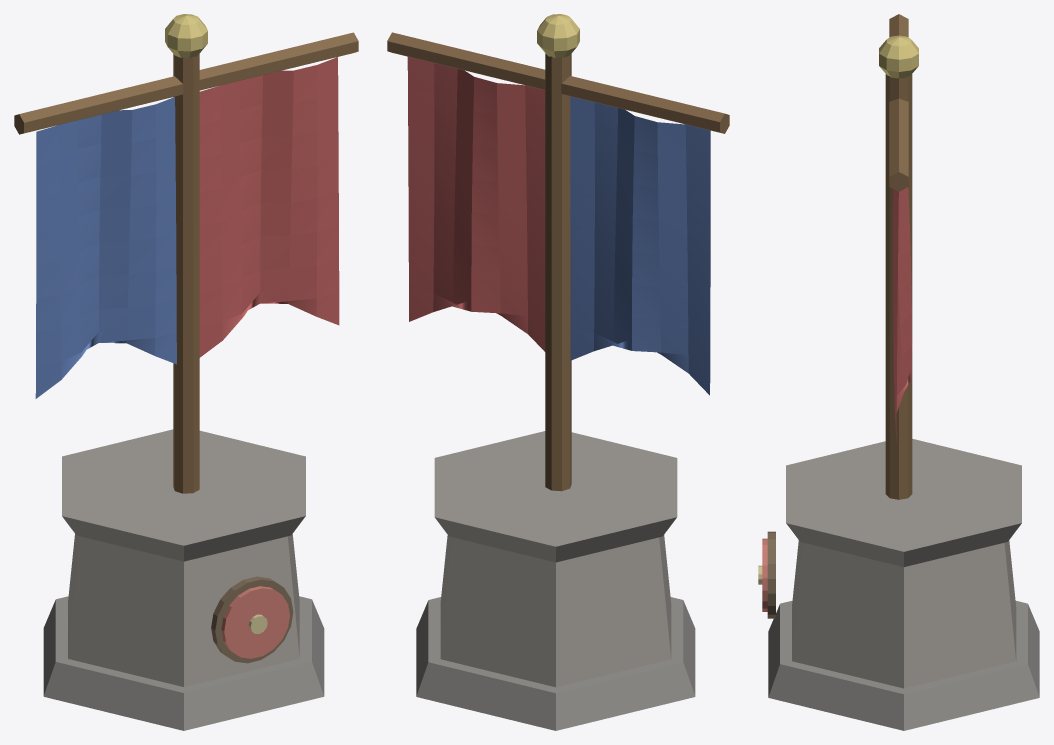
Rendered from Clan_Hub.glb.
3 views of the same model, side by side, from view 1: azimuth 30°, elevation 25°; view 2: azimuth 150°, elevation 25°; view 3: azimuth 270°, elevation 25° (orthographic). The views are drawn at different scales.
Visible parts, largest first — view 1: Clan_Hub_Merged; view 2: Clan_Hub_Merged; view 3: Clan_Hub_Merged.
Boxes of the visible parts, x1,y1,x2,y2 form: Clan_Hub_Merged: (14, 14, 358, 730); Clan_Hub_Merged: (387, 14, 729, 730); Clan_Hub_Merged: (758, 14, 1039, 730).
Bounding box in the file's own units: 1.7 × 3.15 × 1.28.
